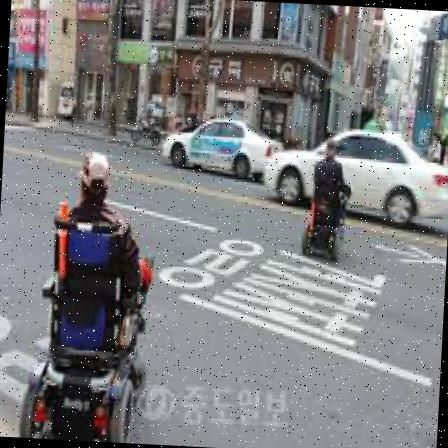wheel: (18, 147, 160, 442), (302, 138, 354, 262)
